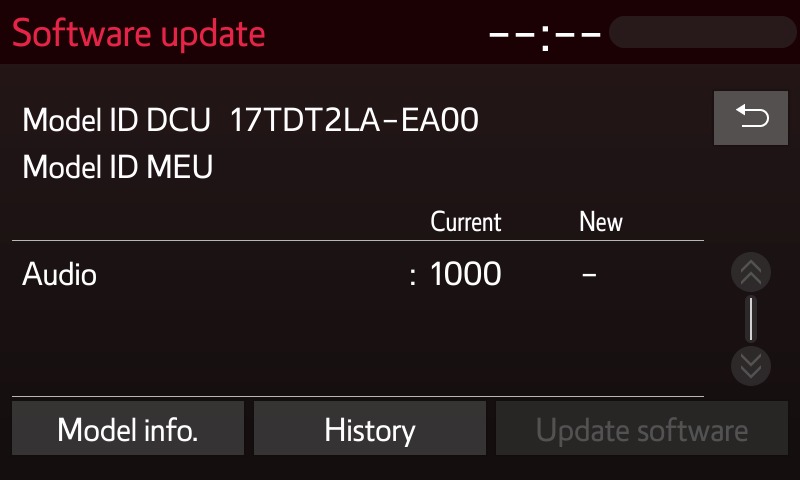touchPart: (254, 399, 491, 458), (12, 401, 246, 460), (710, 90, 794, 153)
untouchPart: (495, 401, 795, 455), (476, 7, 794, 55), (11, 10, 265, 54), (725, 345, 783, 384), (730, 252, 772, 291)
